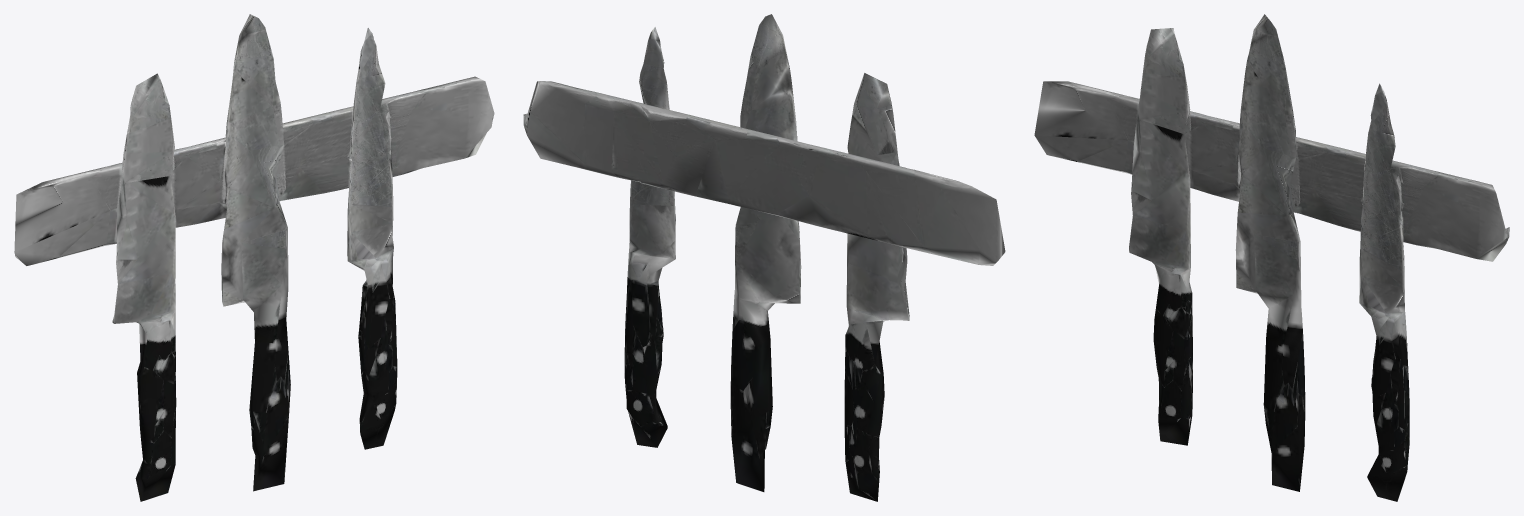
File: mobile.glb
3 views of the same model, side by side, from view 1: azimuth 30°, elevation 25°; view 2: azimuth 150°, elevation 25°; view 3: azimuth 330°, elevation 25° (orthographic).
Visible parts, largest first — view 1: d-knifestrip; view 2: d-knifestrip; view 3: d-knifestrip.
Boxes of the visible parts, x1,y1,x2,y2 form: d-knifestrip: [14, 14, 494, 501]; d-knifestrip: [523, 14, 1005, 501]; d-knifestrip: [1034, 14, 1509, 501].
Size of the model in its own units: 0.4471 by 0.4261 by 0.012.
Materials: 1 (1 with a texture image).
